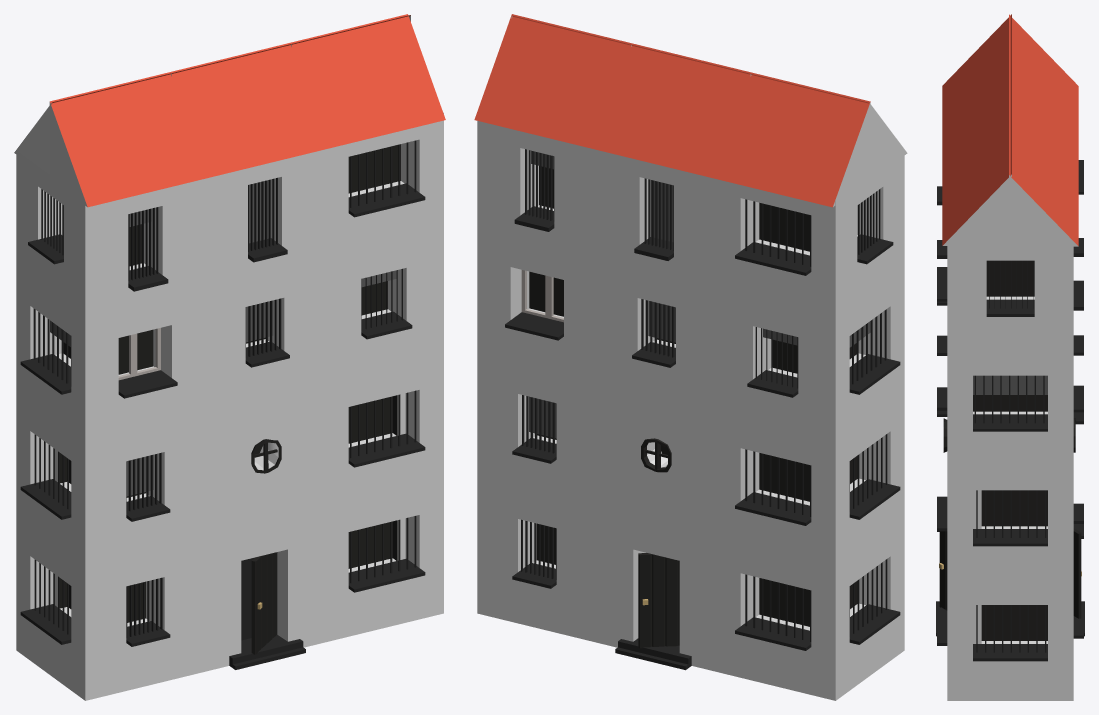
File: Casa_Procedural_18.fbx
The picture shows the model from 3 angles, left to right: view 1: azimuth 30°, elevation 25°; view 2: azimuth 150°, elevation 25°; view 3: azimuth 270°, elevation 25°; orthographic projection. The views are drawn at different scales.
Parts seen in each view (by area): view 1: 18; view 2: 18; view 3: 18.
Part boxes in pixels (x1,y1,x2,y2): 18: (14, 14, 445, 700); 18: (474, 14, 907, 700); 18: (936, 14, 1084, 700).
Bounding box in the file's own units: 316 × 459 × 118.
